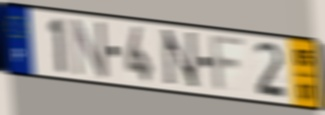1: (48, 15, 68, 75)
2: (256, 41, 290, 100)
4: (124, 24, 155, 86)
F: (209, 32, 248, 95)
N: (69, 15, 111, 81), (160, 28, 202, 92)
